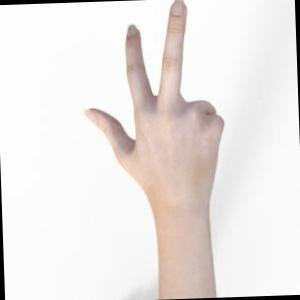scissors: (86, 0, 223, 299)
